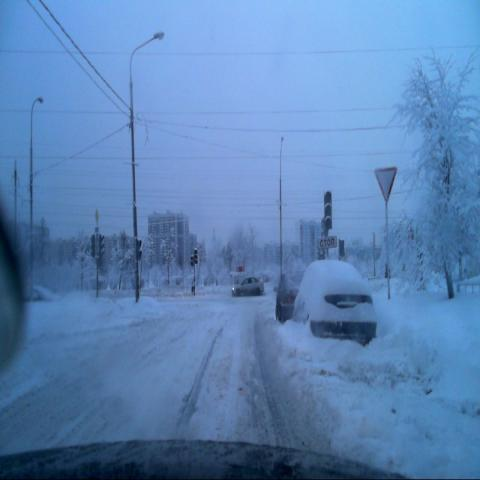6_16: (318, 238, 338, 250)
